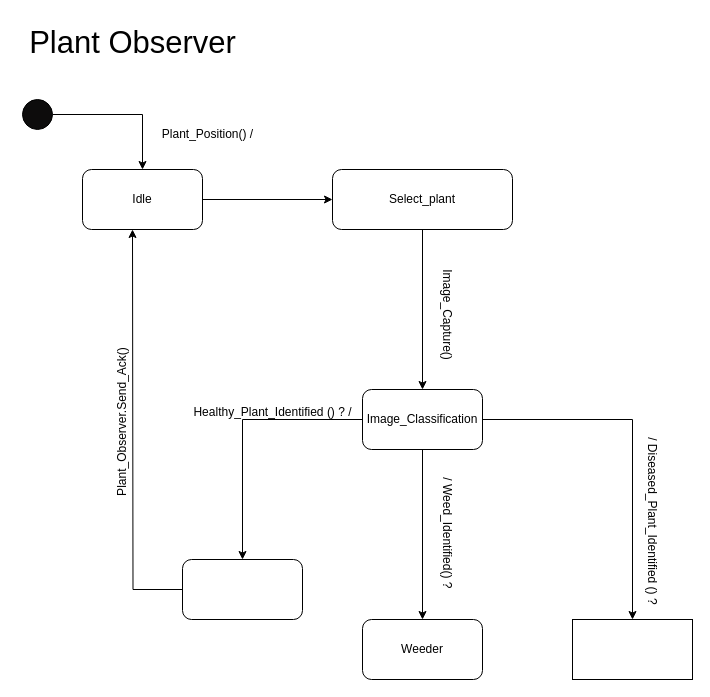
Image size: 710x697. Some labels were removed from this diagram. Here are the shapes that lost their labels. From the top down, the centre of each, then its label:
At (x=242, y=589): "Healthy_plant".
At (x=632, y=649): "Crop_Protection".
